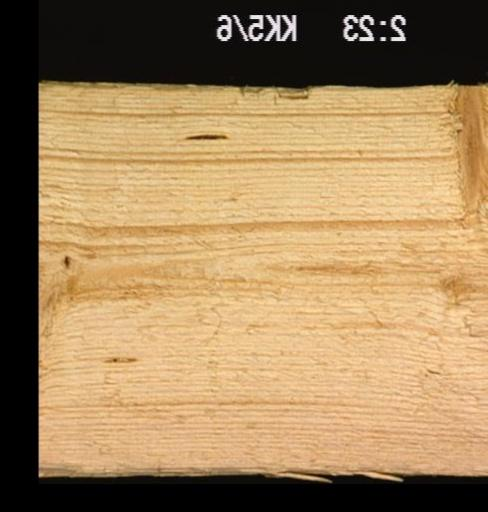small_knot: (49, 245, 77, 276)
